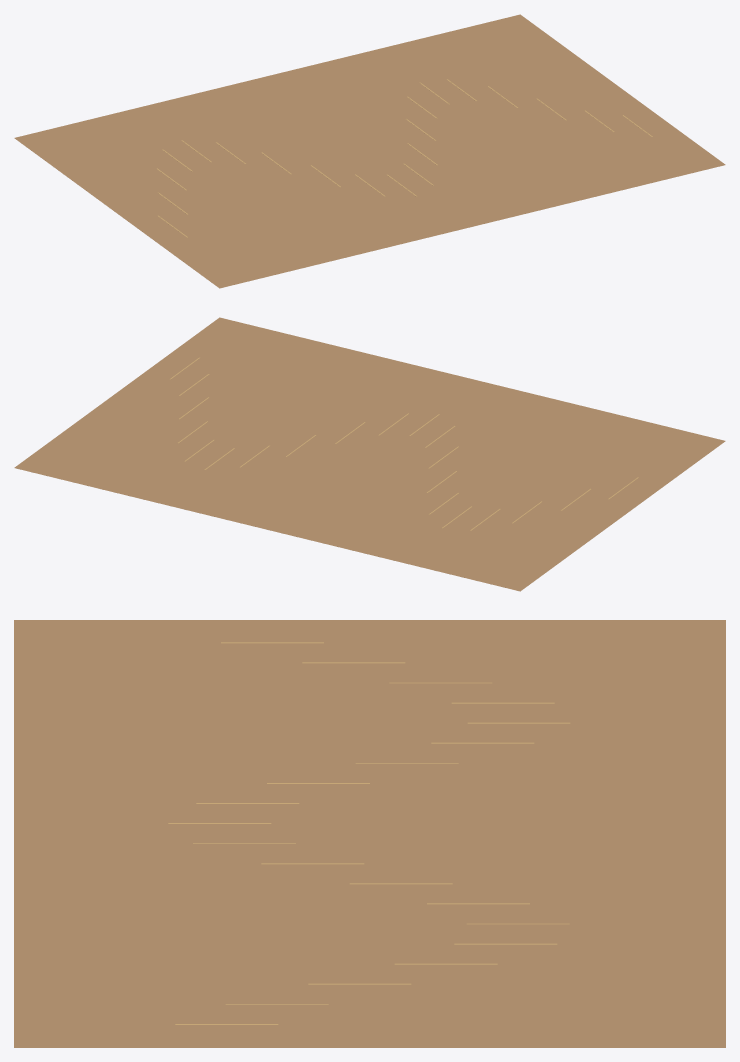
The model's file is 262_L118_L25_LayerReference.glb.
3 renders of one model, top to bottom at view 1: azimuth 30°, elevation 25°; view 2: azimuth 150°, elevation 25°; view 3: azimuth 270°, elevation 25°, orthographic. The views are drawn at different scales.
Visible parts, largest first — view 1: 0000__PSMAT__copper_dark; view 2: 0000__PSMAT__copper_dark; view 3: 0000__PSMAT__copper_dark.
Part boxes in pixels (<box>): 0000__PSMAT__copper_dark: <box>14,14,725,288</box>; 0000__PSMAT__copper_dark: <box>14,317,725,591</box>; 0000__PSMAT__copper_dark: <box>14,620,725,1047</box>.
Size of the model in its own units: 0.472 by 0.000444 by 0.332.
